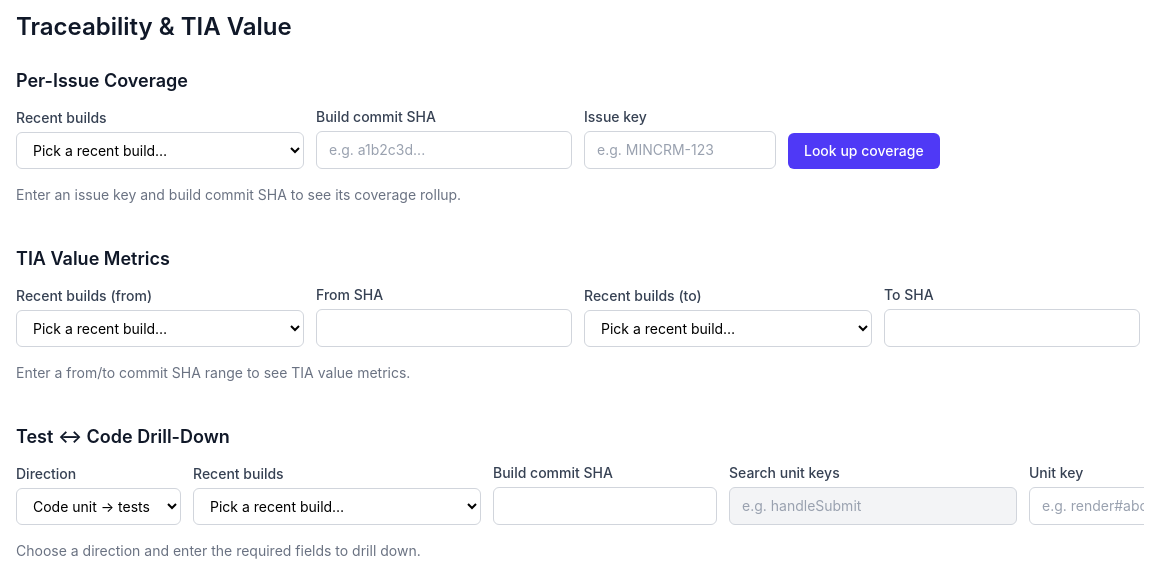
TraceabilityPage — issue coverage › shows an error message on a failed request
Type "MINCRM-1" into the field with test id "issue-key-input" at (680, 150), box [584, 131, 776, 169]
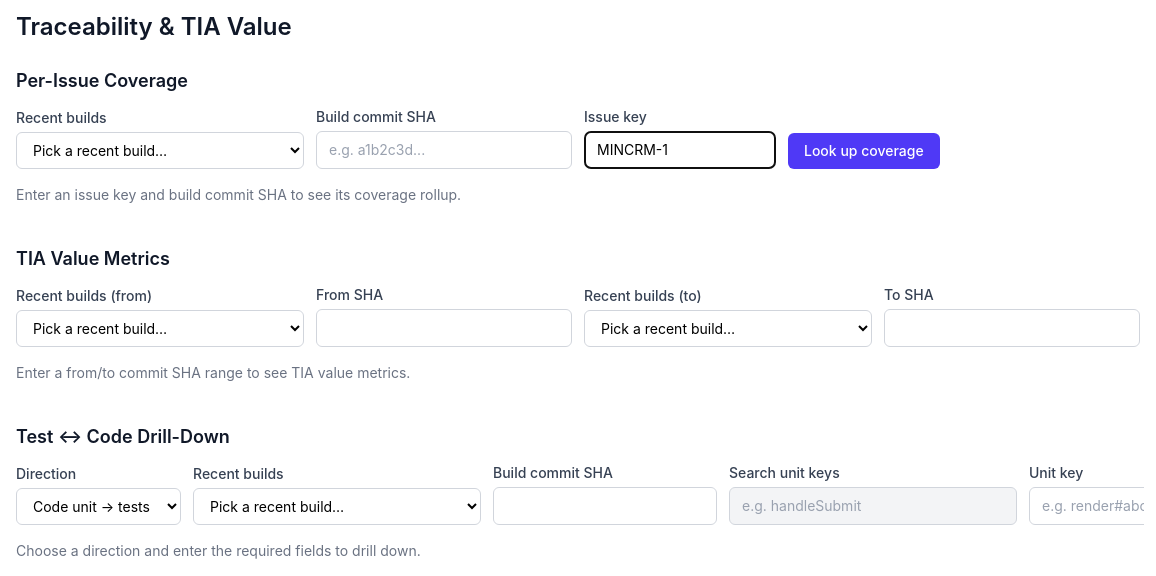
Type "abc123" into the field with test id "issue-commit-sha-input" at (444, 150), box [316, 131, 572, 169]
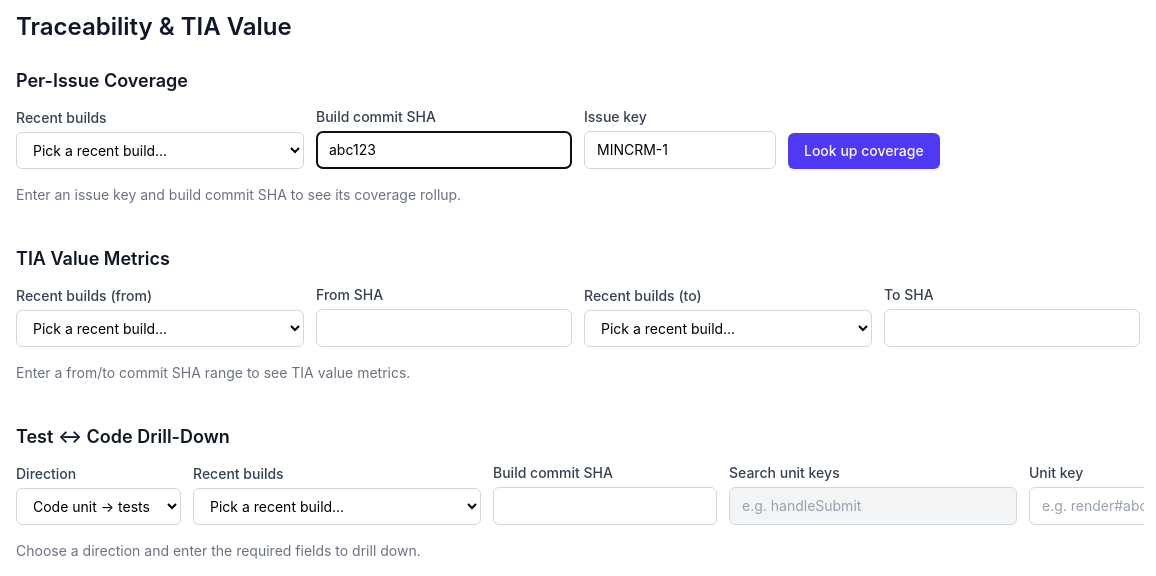
Click the button with test id "issue-coverage-submit-button" at (864, 151), box [788, 133, 940, 169]
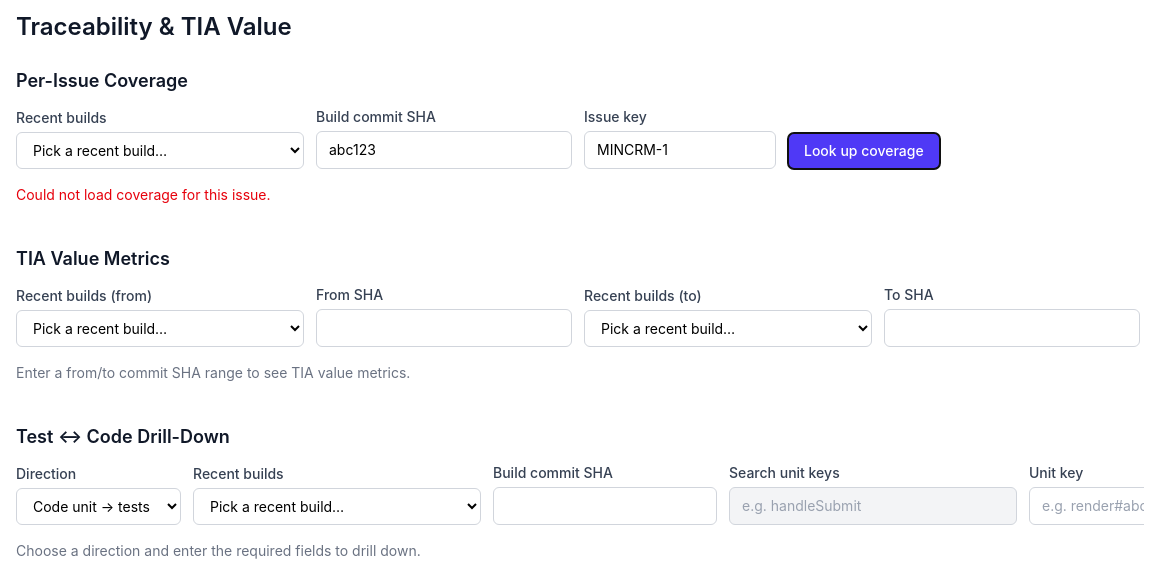
Expected: the text "Could not load coverage for this issue." is shown, [16, 186, 271, 203]
